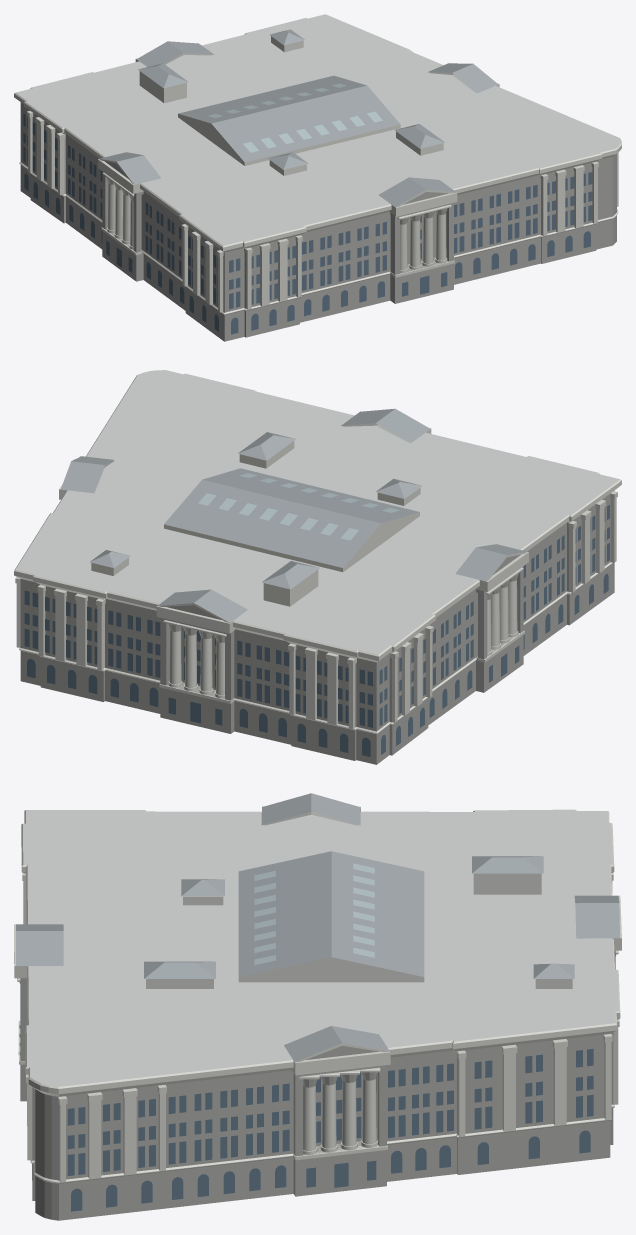
File: nola-us-custom-house.glb
3 renders of one model, top to bottom at view 1: azimuth 30°, elevation 25°; view 2: azimuth 150°, elevation 25°; view 3: azimuth 270°, elevation 25°, orthographic. The views are drawn at different scales.
Parts seen in each view (by area): view 1: U.S. Custom House; view 2: U.S. Custom House; view 3: U.S. Custom House.
Part boxes in pixels (box(x1,y1,x2,y2)): U.S. Custom House: box(14, 14, 621, 341); U.S. Custom House: box(14, 370, 621, 764); U.S. Custom House: box(14, 793, 621, 1220).
Bounding box in the file's own units: 108 × 29.6 × 98.3.
